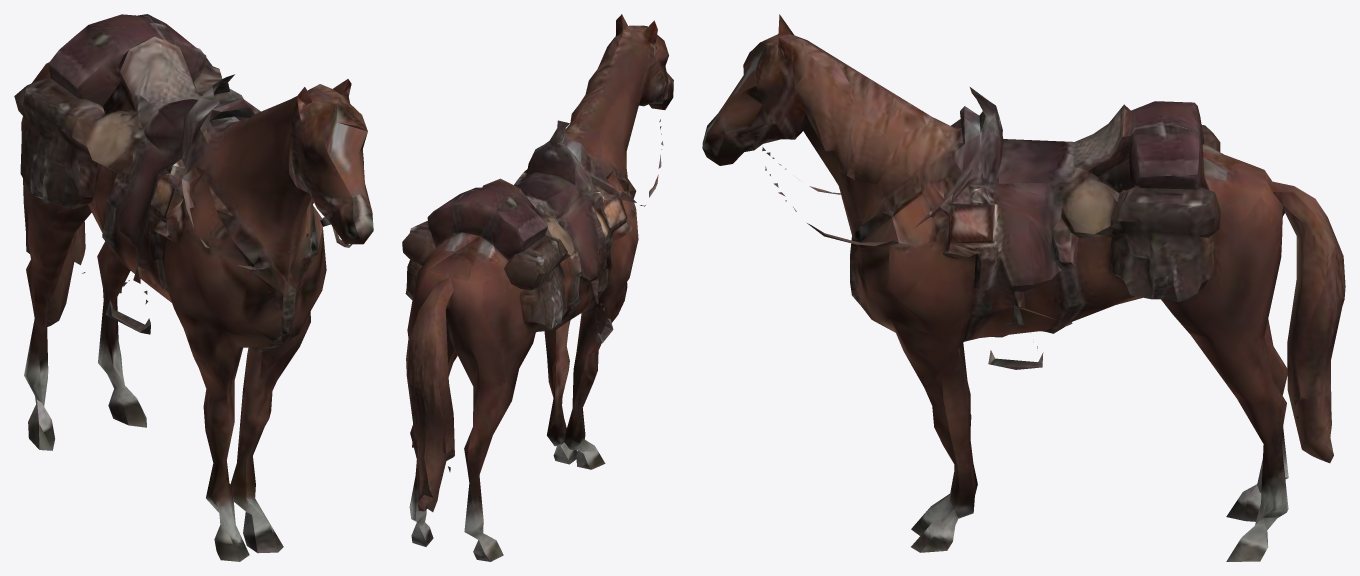
Rendered from horse_saddled_brown_lod1.glb.
3 views of the same model, side by side, from view 1: azimuth 30°, elevation 25°; view 2: azimuth 150°, elevation 25°; view 3: azimuth 270°, elevation 25° (orthographic). The views are drawn at different scales.
Parts seen in each view (by area): view 1: horse_saddled_brown_lod1; view 2: horse_saddled_brown_lod1; view 3: horse_saddled_brown_lod1.
Boxes of the visible parts, x1,y1,x2,y2 form: horse_saddled_brown_lod1: [14, 14, 373, 561]; horse_saddled_brown_lod1: [402, 14, 673, 561]; horse_saddled_brown_lod1: [702, 14, 1345, 561].
Size of the model in its own units: 0.8111 by 2.18 by 2.46.
1 material, 1 textured.
